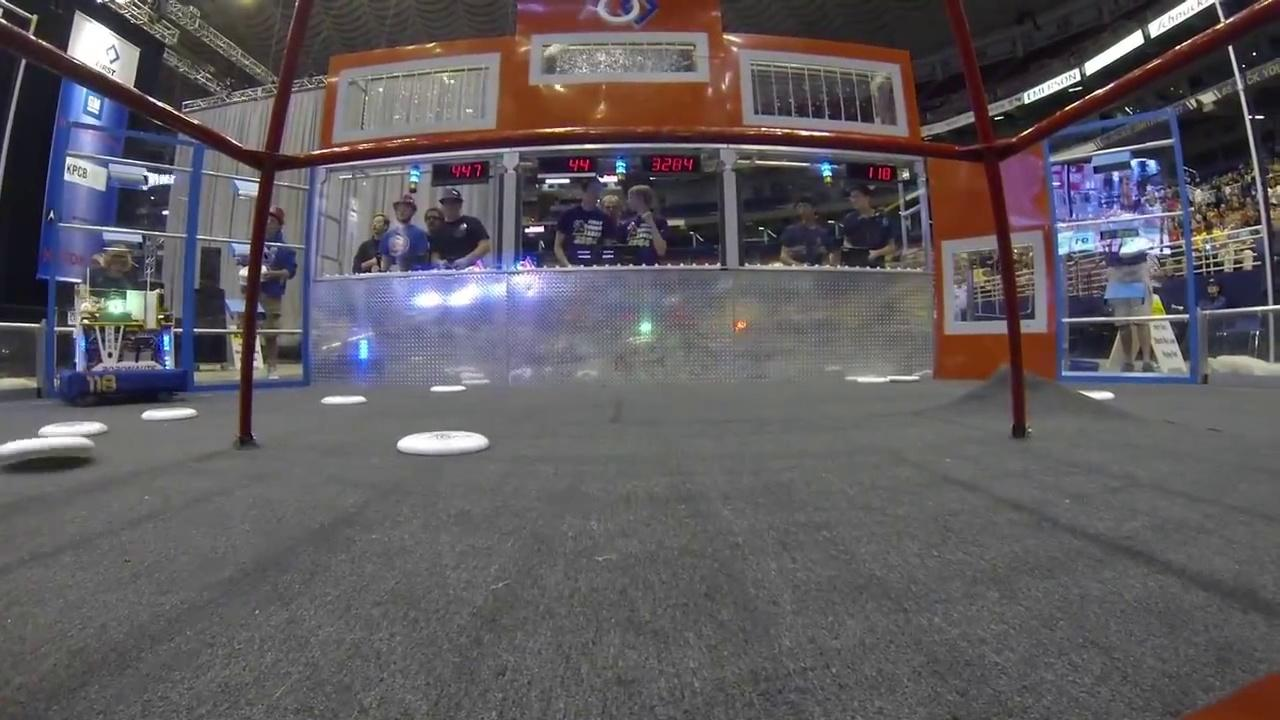robot: (49, 271, 195, 405)
